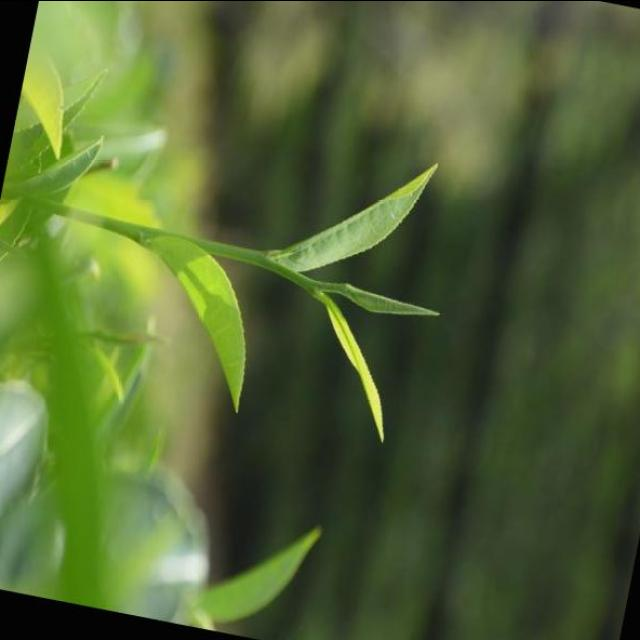Stem: (299, 275, 317, 292)
